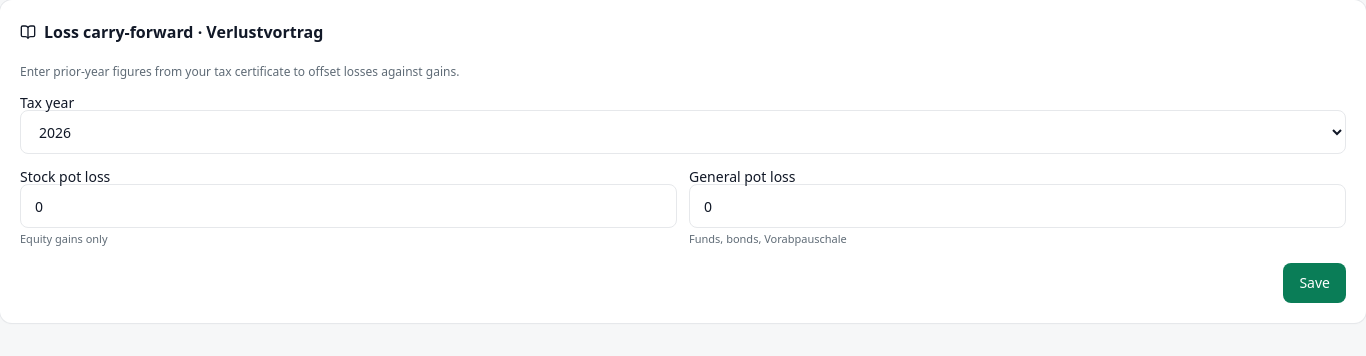
LossCarryforwardEditor › strips a minus sign from entered amounts instead of silently accepting a negative loss
Check: the button "Save" is enabled, box [1283,263,1346,303]
Replace the text in the field labelled "Stock pot loss" with "-500" at (348, 206), box [20,184,677,228]
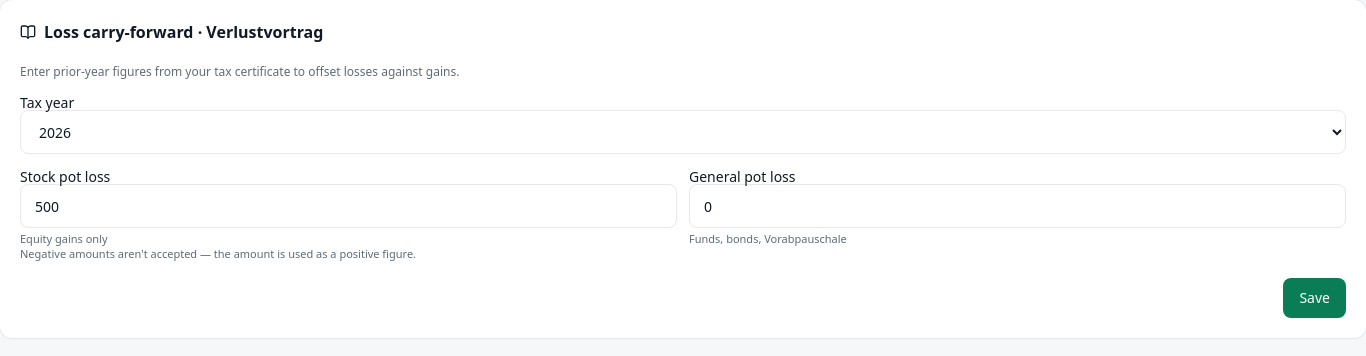
Check: the field labelled "Stock pot loss" holds "500", box [20,184,677,228]
